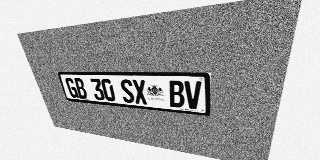0: (100, 79, 116, 102)
3: (90, 78, 105, 101)
B: (168, 80, 185, 108), (73, 78, 88, 99)
G: (64, 78, 79, 98)
S: (119, 79, 135, 103)
V: (184, 81, 201, 110)
X: (132, 79, 148, 105)
